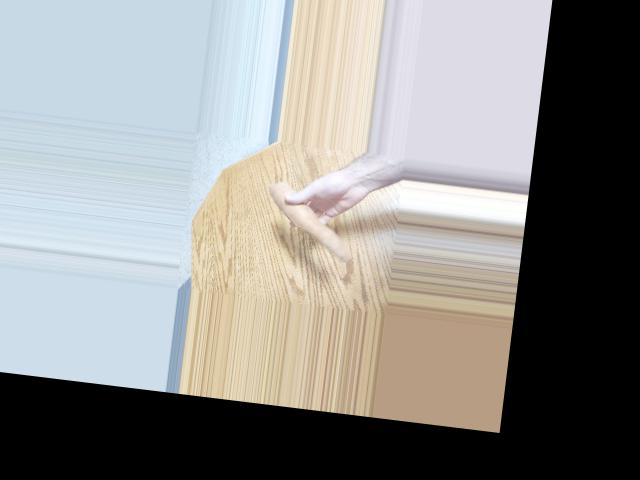sweet_potato: (269, 179, 358, 259)
